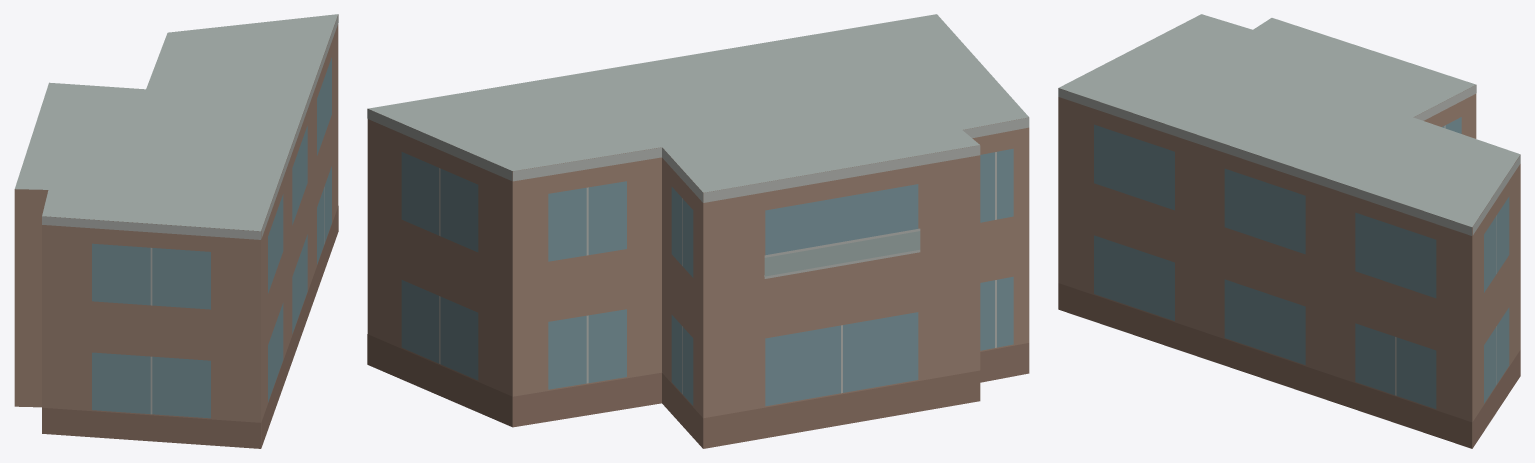
File: survey-upis-32619782.glb
The picture shows the model from 3 angles, left to right: view 1: azimuth 30°, elevation 25°; view 2: azimuth 150°, elevation 25°; view 3: azimuth 270°, elevation 25°; orthographic projection. The views are drawn at different scales.
Visible parts, largest first — view 1: survey-upis-32619782.tmp; view 2: survey-upis-32619782.tmp; view 3: survey-upis-32619782.tmp.
Part boxes in pixels (x1,y1,x2,y2): survey-upis-32619782.tmp: (14, 14, 338, 448); survey-upis-32619782.tmp: (367, 14, 1029, 448); survey-upis-32619782.tmp: (1058, 14, 1520, 448).
Size of the model in its own units: 12.6 by 6.1 by 11.54.
